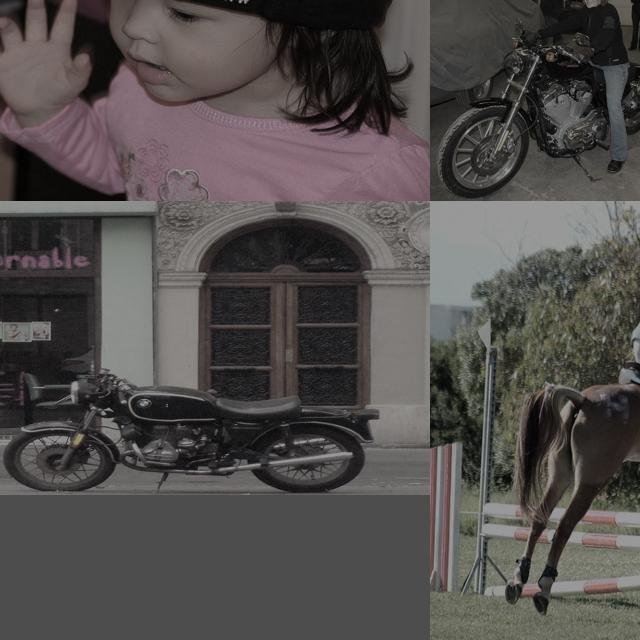car: (442, 508, 507, 558), (591, 524, 640, 560), (558, 517, 604, 555), (529, 522, 568, 550), (507, 520, 541, 547)
chair: (552, 47, 587, 73)
dog: (0, 352, 122, 435)
person: (0, 208, 280, 515)
sofa: (493, 46, 540, 67)
train: (227, 0, 294, 48)
